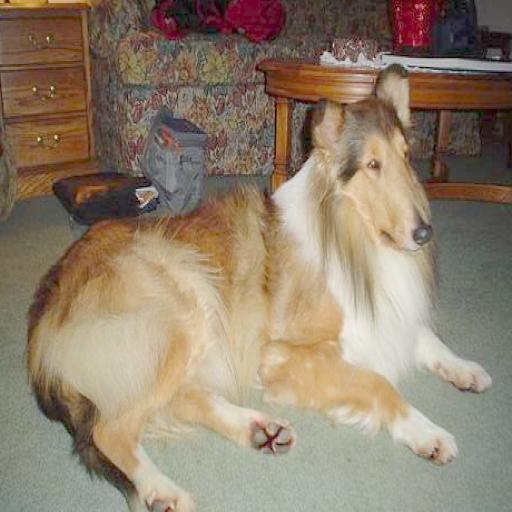dog_face: (311, 64, 431, 256)
